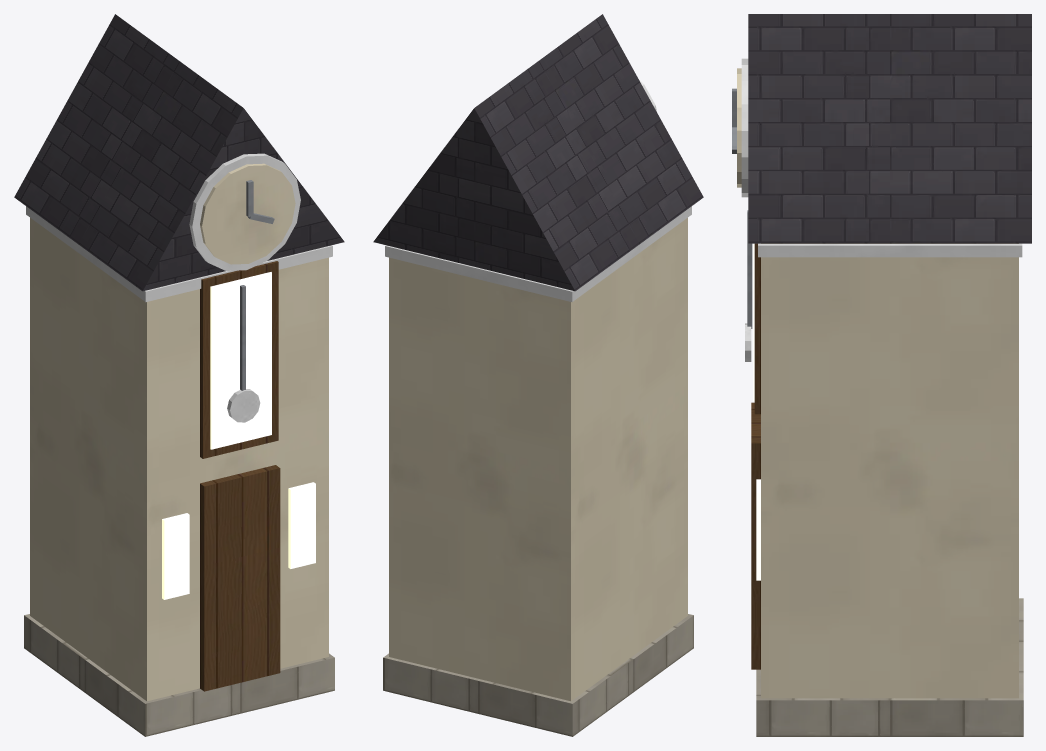
The model's file is protocol.pendle.glb.
3 views of the same model, side by side, from view 1: azimuth 30°, elevation 25°; view 2: azimuth 150°, elevation 25°; view 3: azimuth 270°, elevation 25° (orthographic). The views are drawn at different scales.
Visible parts, largest first — view 1: building.protocol.pendle, pendulum; view 2: building.protocol.pendle; view 3: building.protocol.pendle, pendulum.
Part boxes in pixels (x1,y1,x2,y2): building.protocol.pendle: (14, 14, 344, 736); pendulum: (227, 285, 260, 422); building.protocol.pendle: (373, 14, 703, 736); building.protocol.pendle: (732, 14, 1031, 736); pendulum: (745, 210, 752, 361).
Size of the model in its own units: 1.6 by 4.6 by 1.86.
8 materials, 7 textured.
